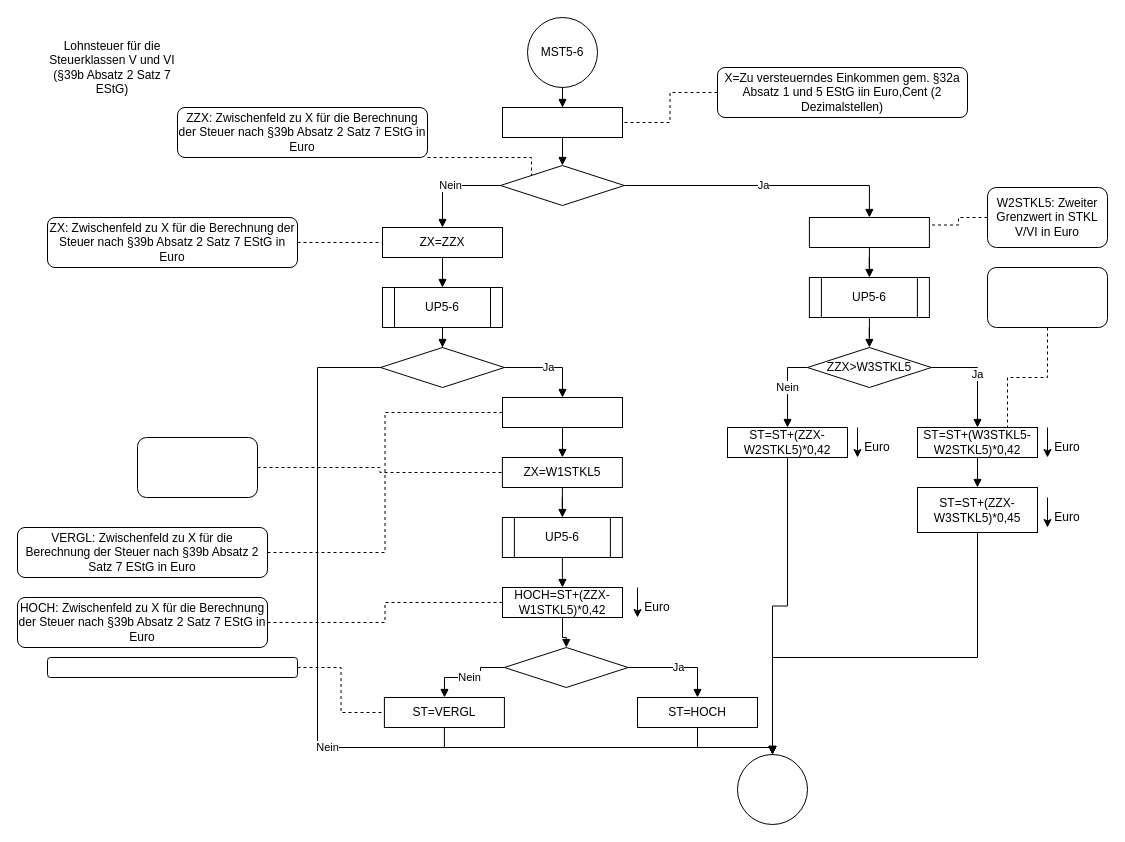
The diagram is 1125 pixels wide and 842 high, and some of its shapes have lost their labels. Each missing label, with the box of its shape:
Ende: (736, 754, 808, 824)
HOCH<VERGL: (503, 646, 628, 688)
ST: Tarifliche Einkommensteuer in Euro: (46, 656, 298, 678)
VERGL=ST: (502, 396, 622, 428)
W1STKL5: Erster Grenzwert in STKL V/VI in Euro: (136, 436, 258, 498)
W3STKL5: Dritter Grenzwert in STKL V/VI in Euro: (986, 266, 1108, 328)
ZX=W2STKL5: (808, 216, 929, 248)
ZZX=X: (502, 106, 622, 138)
ZZX>W1STKL5: (380, 346, 504, 388)
ZZX>W2STKL5: (500, 164, 624, 206)
